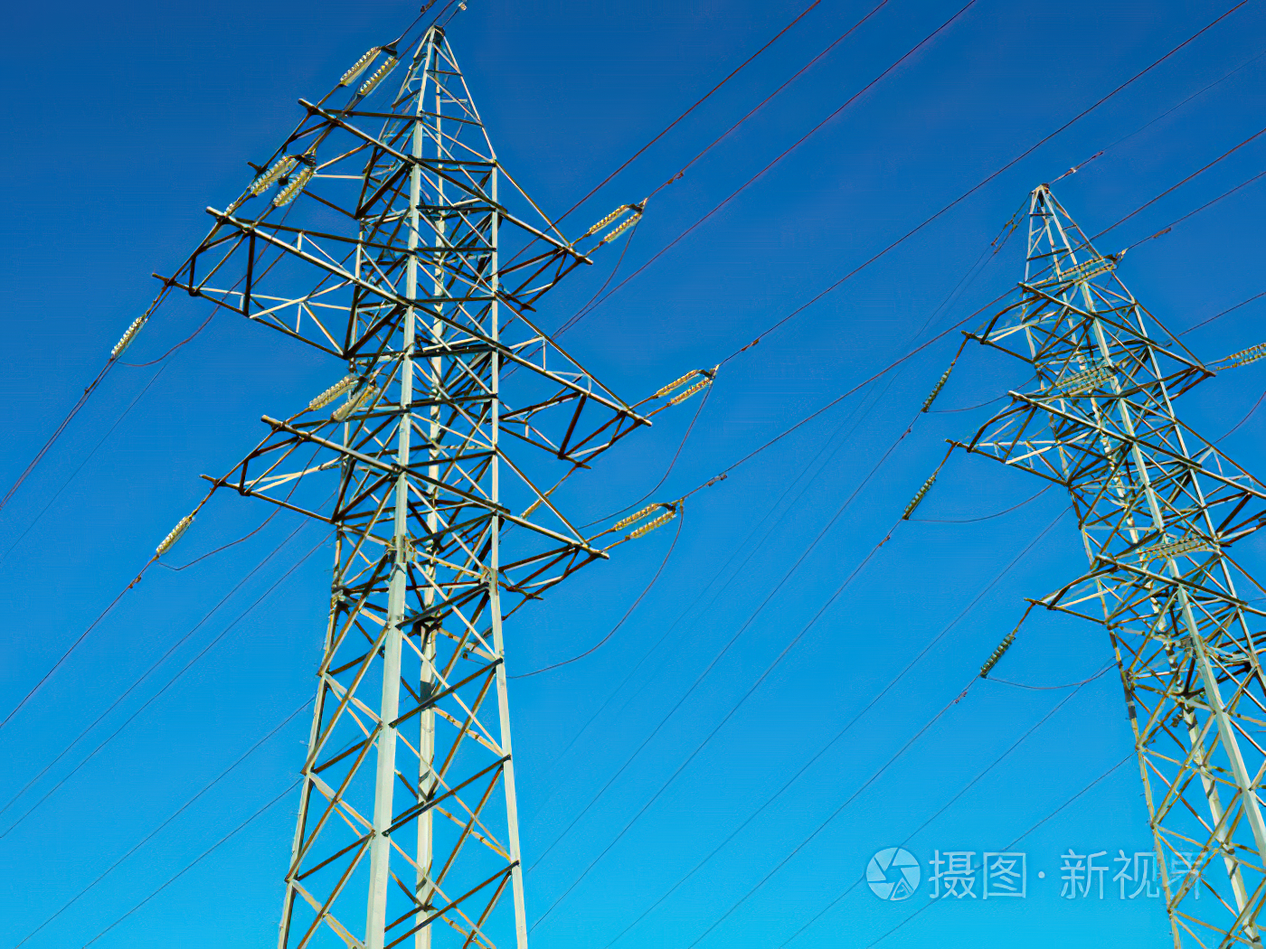insulator: (310, 372, 379, 426), (250, 158, 319, 209), (337, 43, 400, 97), (609, 500, 676, 540), (655, 366, 715, 407), (589, 202, 645, 244), (105, 318, 147, 363), (151, 515, 192, 558), (901, 474, 934, 526), (979, 633, 1012, 679), (919, 368, 953, 409)
